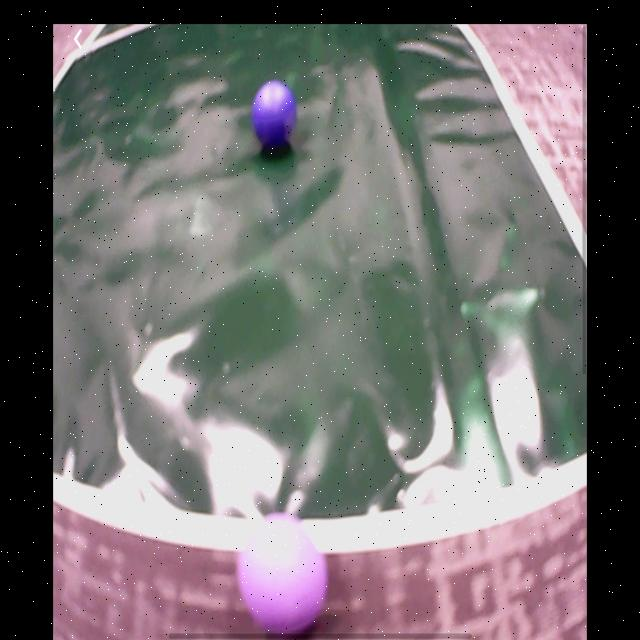ball: (238, 515, 328, 635), (254, 80, 295, 145)
